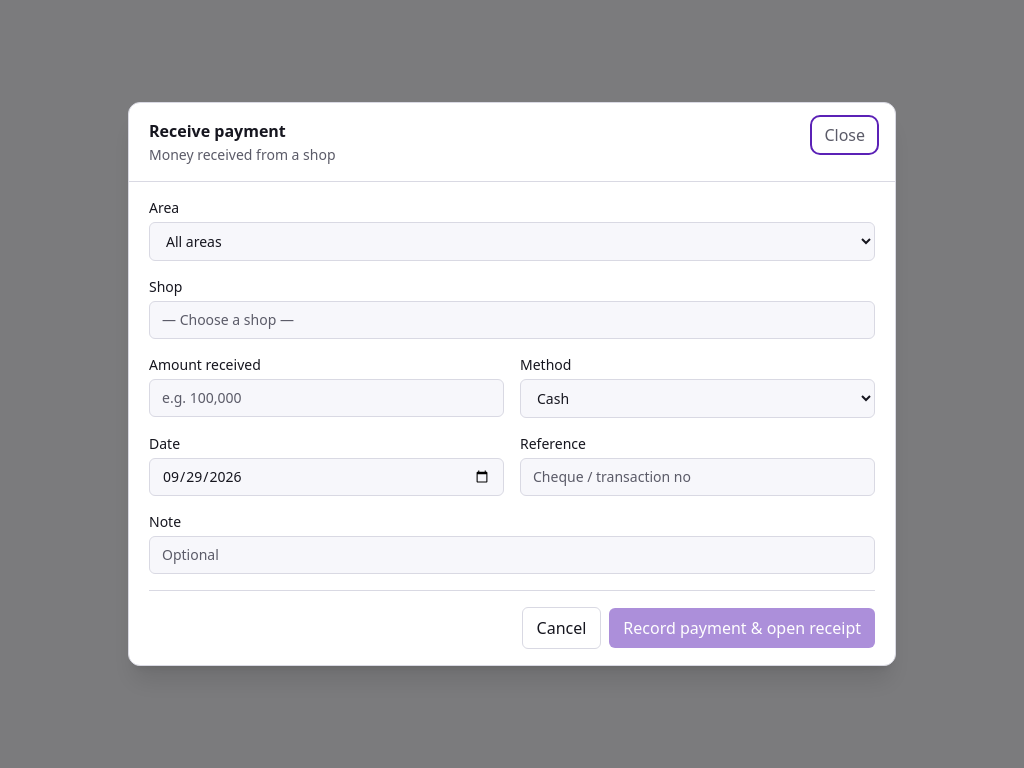
Test: money panels never pre-select a party › Save stays disabled until BOTH a party and a valid amount exist
The width and height of the screenshot is (1024, 768).
Type "500" into the field labelled "Amount received".
click(326, 398); type("500")  # box left=149, top=379, right=504, bottom=417
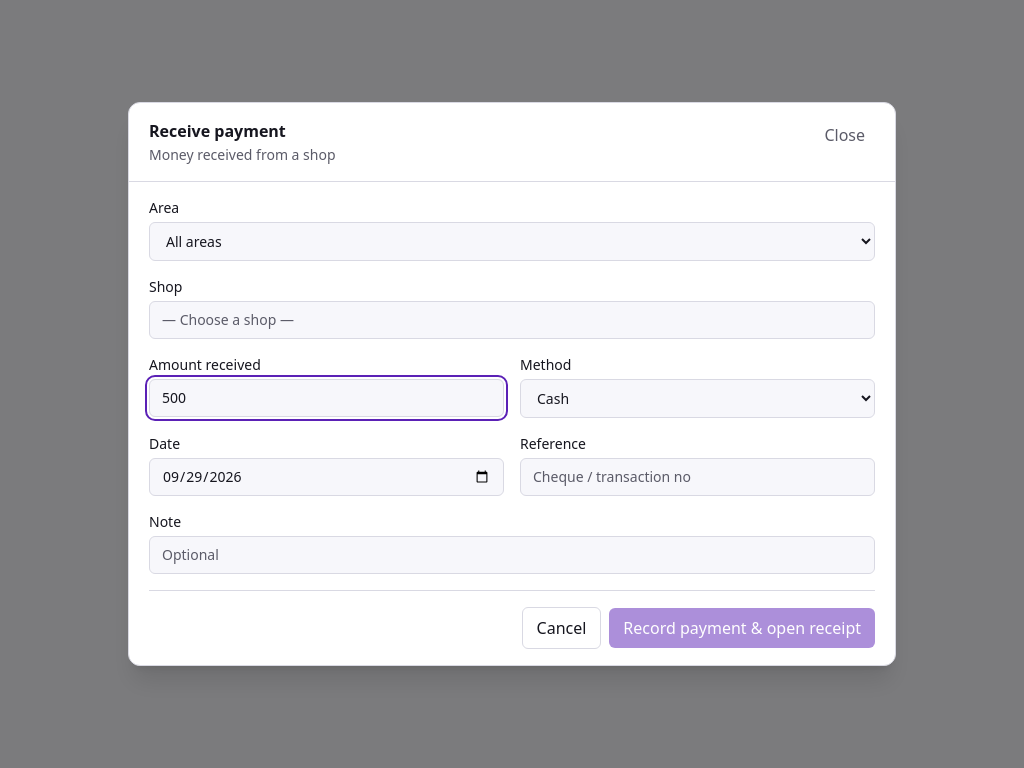
Expected: the button "Record payment & open receipt" is disabled, left=609, top=608, right=875, bottom=648
Click the dropdown labelled "Shop".
click(512, 320)  # box left=149, top=301, right=875, bottom=339
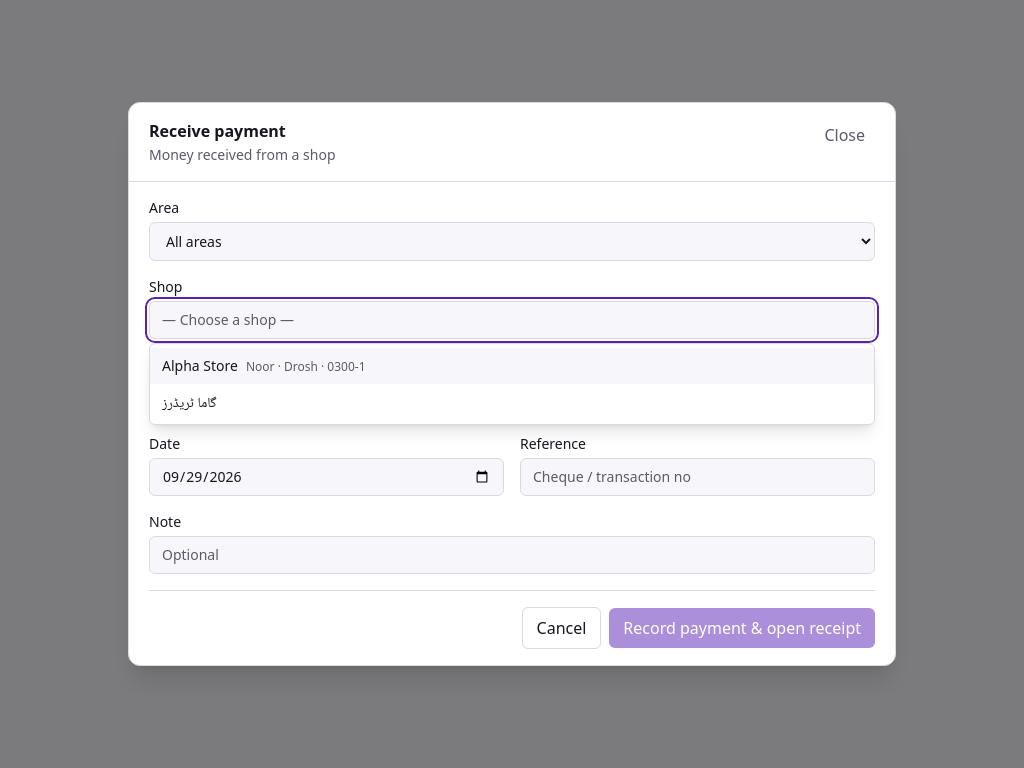
Click the option "Alpha Store".
click(200, 366)  # box left=150, top=348, right=874, bottom=384
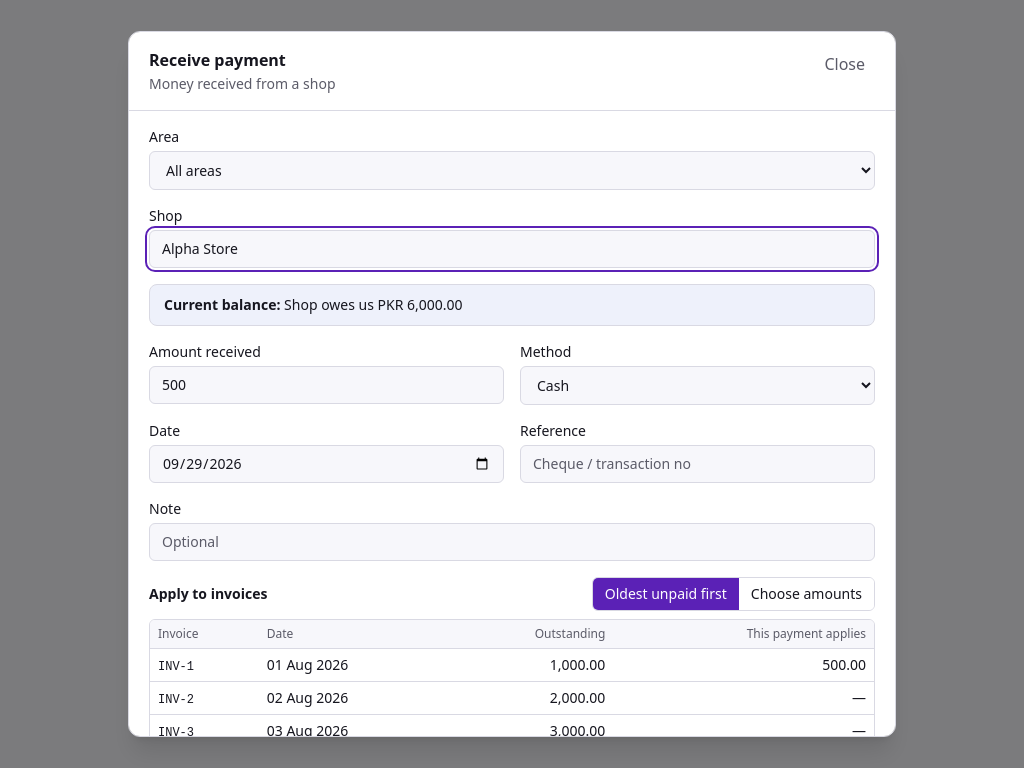
Clear the field labelled "Amount received" at x=326, y=385, box left=149, top=366, right=504, bottom=404
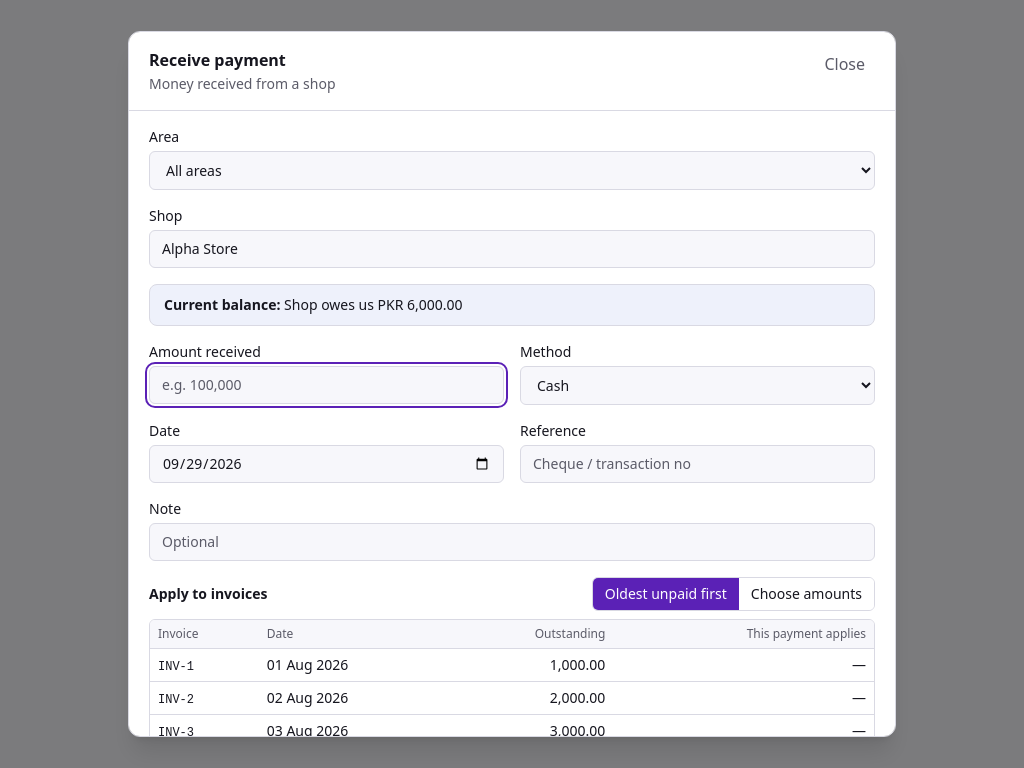
Type "0" into the field labelled "Amount received".
click(326, 385); type("0")  # box left=149, top=366, right=504, bottom=404
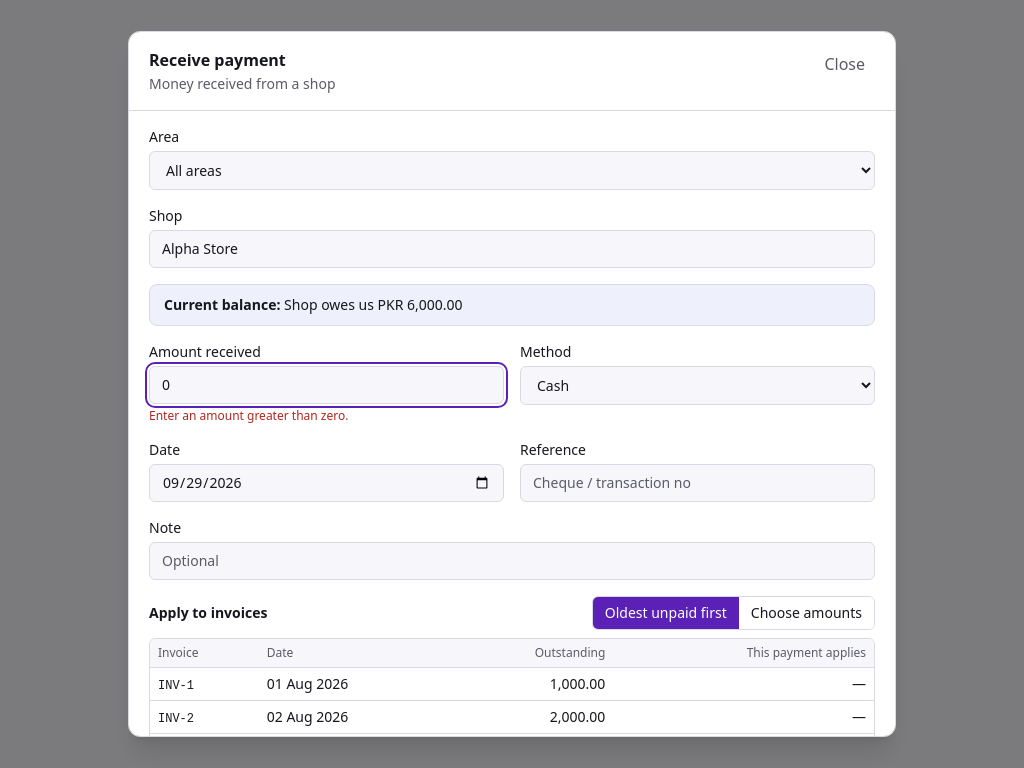
Replace the text in the field labelled "Amount received" with "12.345" at x=326, y=385, box left=149, top=366, right=504, bottom=404
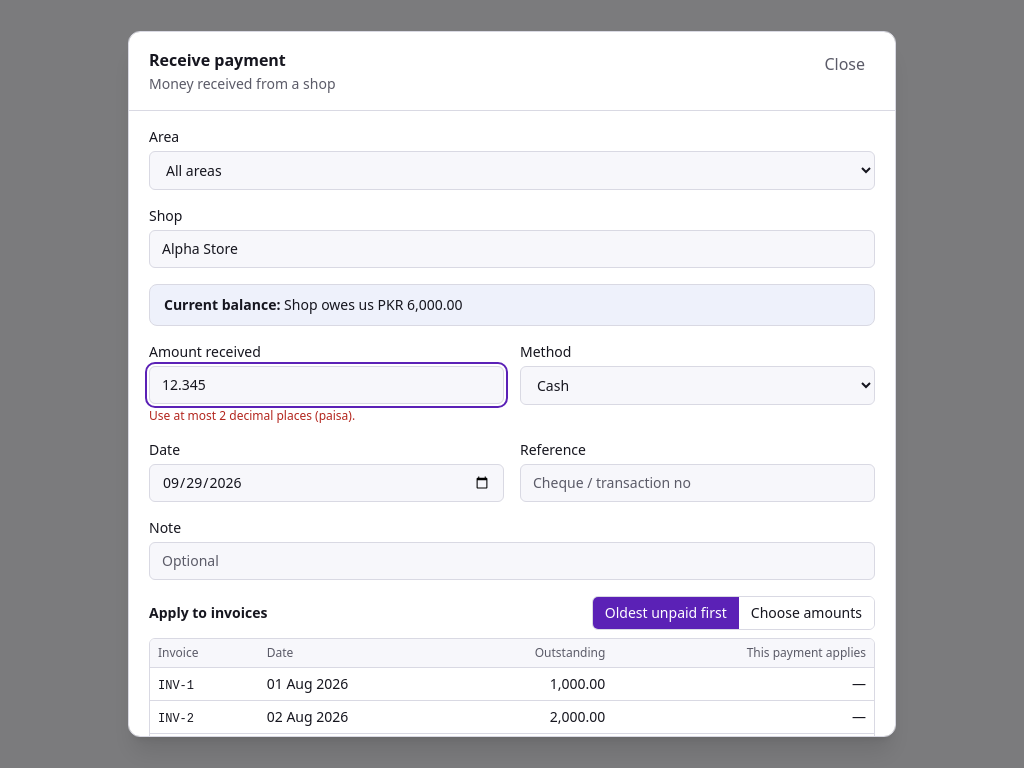
Now the text "Use at most 2 decimal places (paisa)." is shown, box left=149, top=407, right=355, bottom=424
